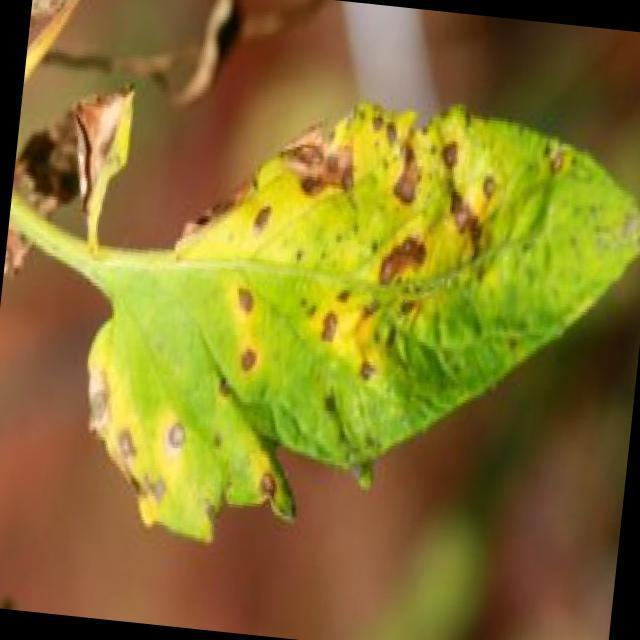Septoria: (115, 86, 567, 538)
